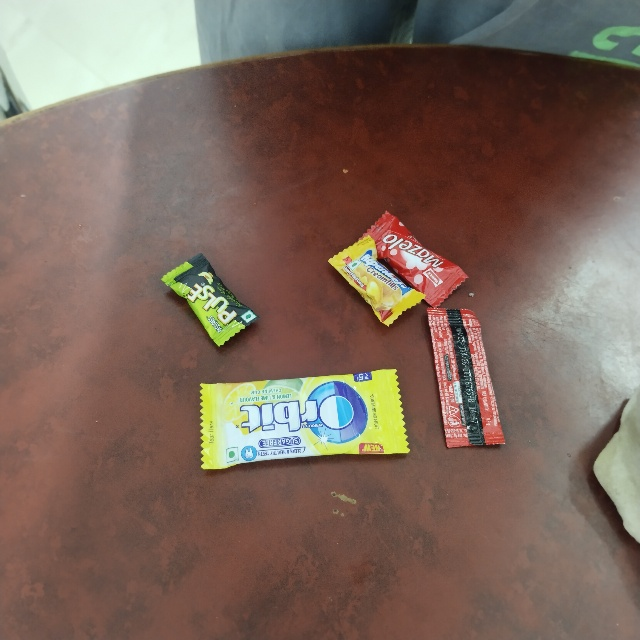Alpenlibe Creamfills: (327, 263, 375, 356)
Mazelo: (358, 234, 402, 349)
Nescafe Coffee: (422, 312, 486, 456)
Orbit: (192, 374, 407, 472)
Pulse: (199, 244, 299, 301)
